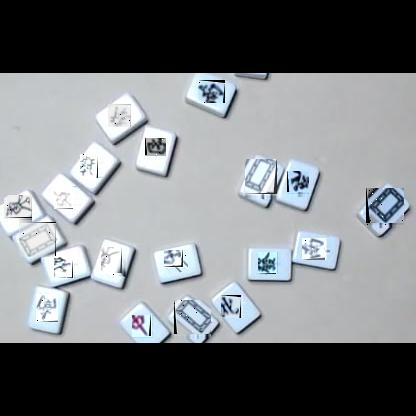1z: (4, 196, 32, 223), (102, 248, 127, 278)
2z: (198, 80, 225, 103), (36, 294, 58, 322), (303, 238, 330, 260)
3z: (165, 251, 188, 272), (145, 139, 166, 160)
4z: (222, 295, 246, 318), (287, 172, 309, 197), (55, 256, 78, 278)
5z: (366, 189, 404, 228), (174, 301, 211, 339), (19, 222, 56, 257), (245, 160, 277, 199)
6z: (108, 104, 131, 127), (81, 154, 103, 178), (259, 252, 281, 274)
7z: (133, 316, 156, 341), (55, 186, 78, 209)
